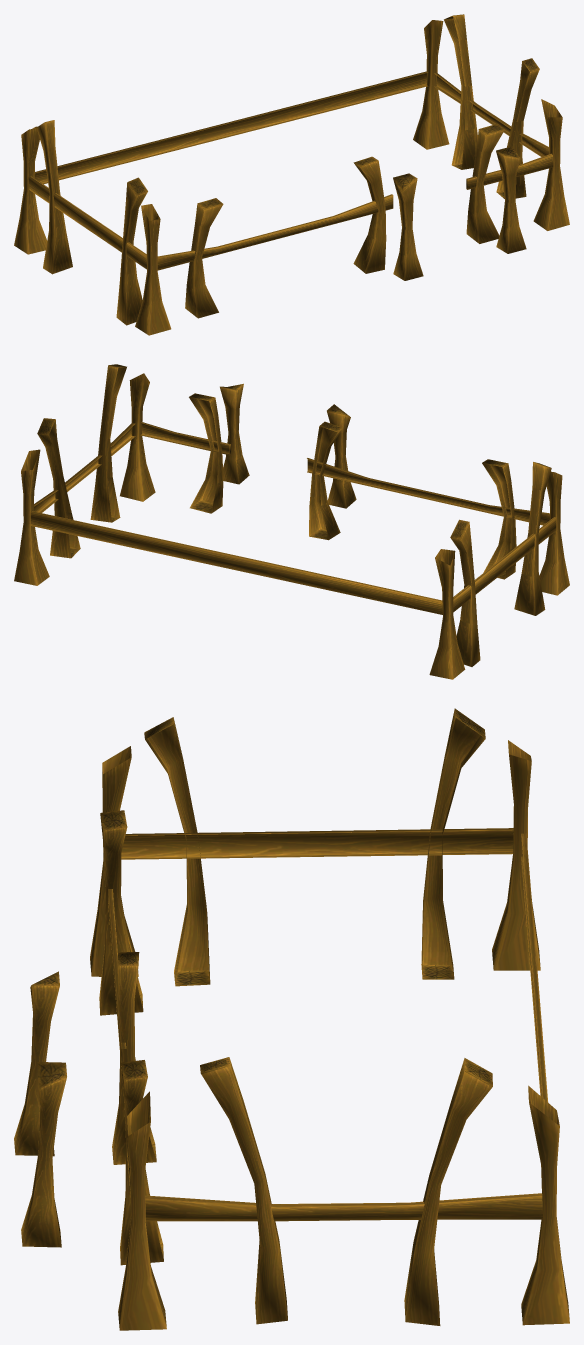
File: HTOWN01_GREENDRAGCOLUMS.fbx
3 views of the same model, one above another, from view 1: azimuth 30°, elevation 25°; view 2: azimuth 150°, elevation 25°; view 3: azimuth 270°, elevation 25° (orthographic). The views are drawn at different scales.
Parts seen in each view (by area): view 1: HTOWN01_GREENDRAGCOLUMS; view 2: HTOWN01_GREENDRAGCOLUMS; view 3: HTOWN01_GREENDRAGCOLUMS.
Part boxes in pixels (x1,y1,x2,y2): HTOWN01_GREENDRAGCOLUMS: [14, 14, 569, 335]; HTOWN01_GREENDRAGCOLUMS: [14, 364, 569, 679]; HTOWN01_GREENDRAGCOLUMS: [14, 708, 569, 1330].
Size of the model in its own units: 97223 by 32457 by 59958.
1 material, 1 textured.
